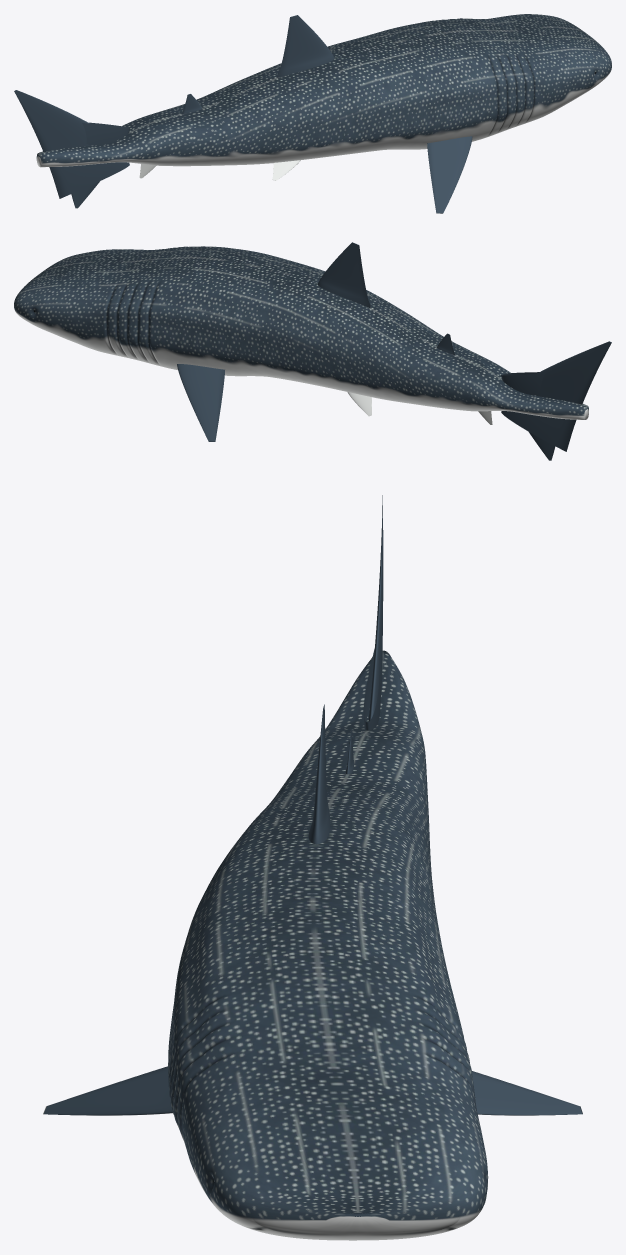
The model's file is whale_shark.glb.
3 views of the same model, one above another, from view 1: azimuth 30°, elevation 25°; view 2: azimuth 150°, elevation 25°; view 3: azimuth 270°, elevation 25° (orthographic). The views are drawn at different scales.
Parts seen in each view (by area): view 1: WhaleShark_Body, WhaleShark_Fins; view 2: WhaleShark_Body, WhaleShark_Fins; view 3: WhaleShark_Body, WhaleShark_Fins.
Part boxes in pixels (x1=…): WhaleShark_Body: x1=36, y1=14, x2=611, y2=167; WhaleShark_Fins: x1=14, y1=15, x2=472, y2=213; WhaleShark_Body: x1=14, y1=246, x2=588, y2=419; WhaleShark_Fins: x1=177, y1=242, x2=611, y2=460; WhaleShark_Body: x1=168, y1=650, x2=488, y2=1240; WhaleShark_Fins: x1=43, y1=495, x2=582, y2=1115.
Size of the model in its own units: 10 by 2.78 by 4.1.
3 materials, 1 textured.
